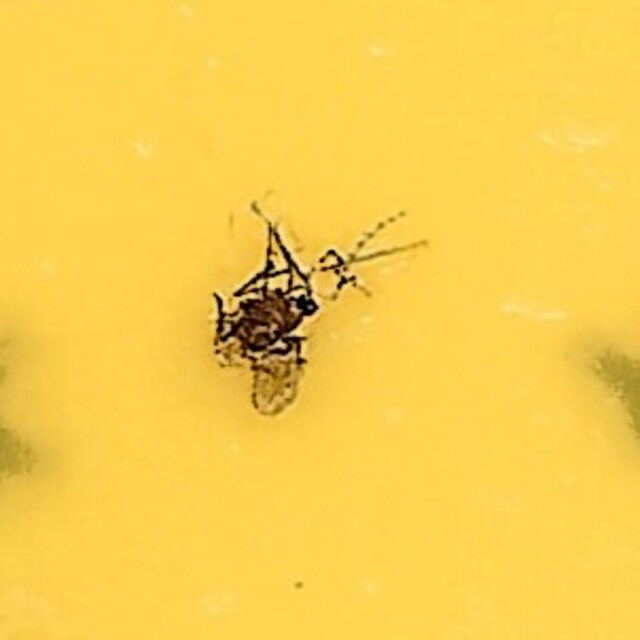Nematocera: (212, 212, 428, 428)
